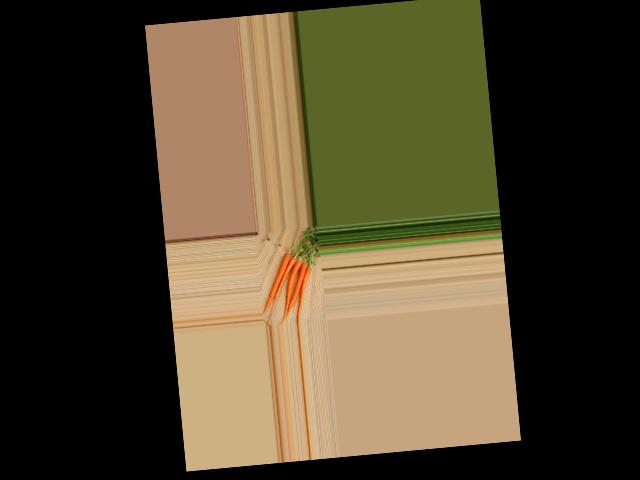carrot: (291, 267, 317, 321)
